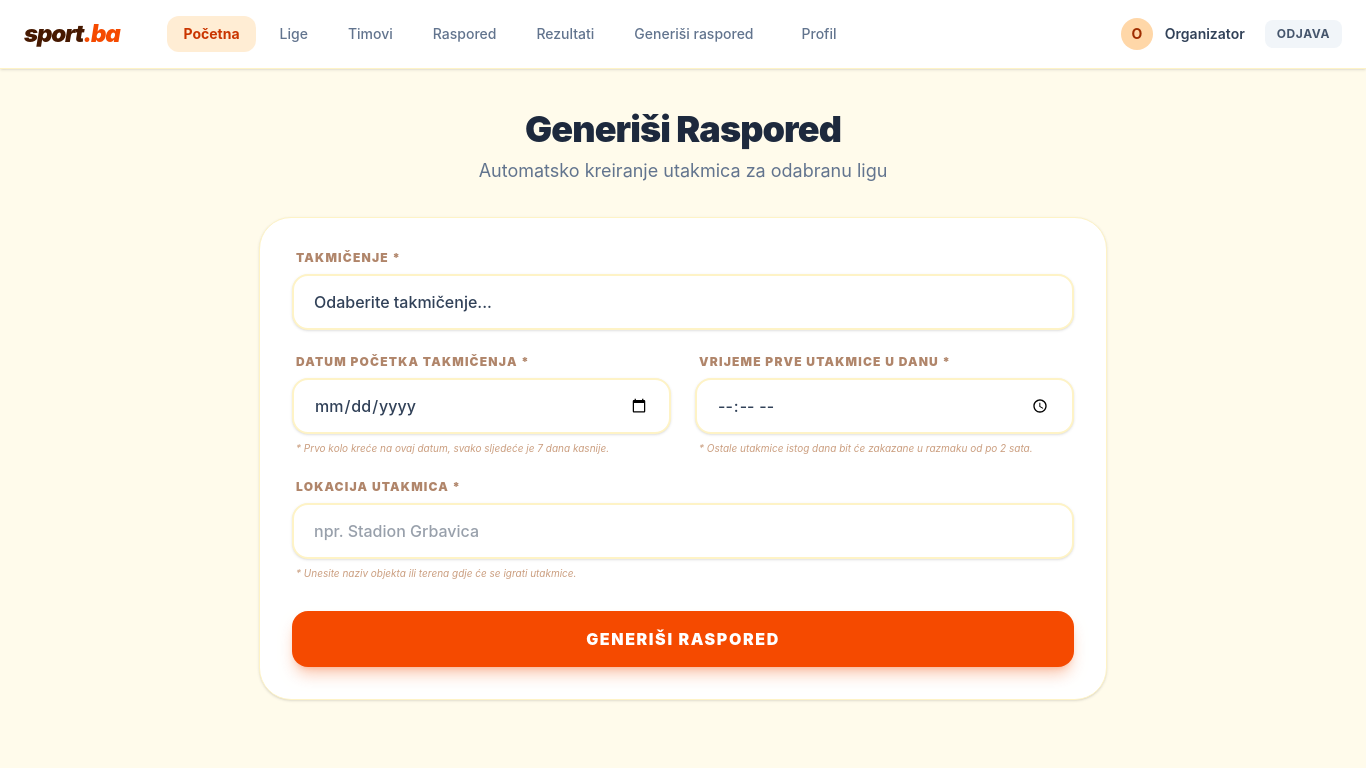
Scenario: GenerateSchedule › dugme je onemogućeno dok traje generisanje
Select "Premijer liga" in the dropdown labelled "Takmičenje *" at [683, 302], box left=292, top=274, right=1074, bottom=330
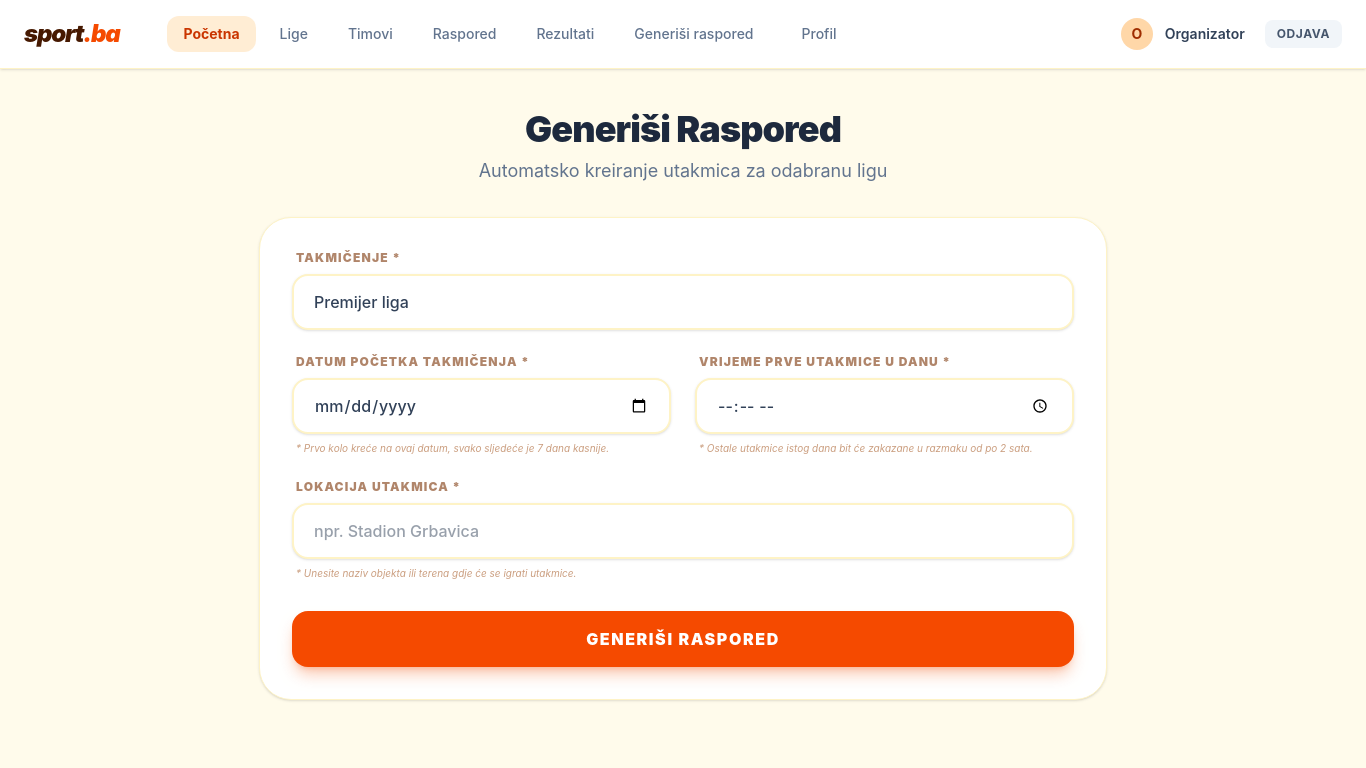
Type "2024-01-01" into the date field labelled "Datum početka takmičenja *" at [482, 406], box left=292, top=378, right=671, bottom=434
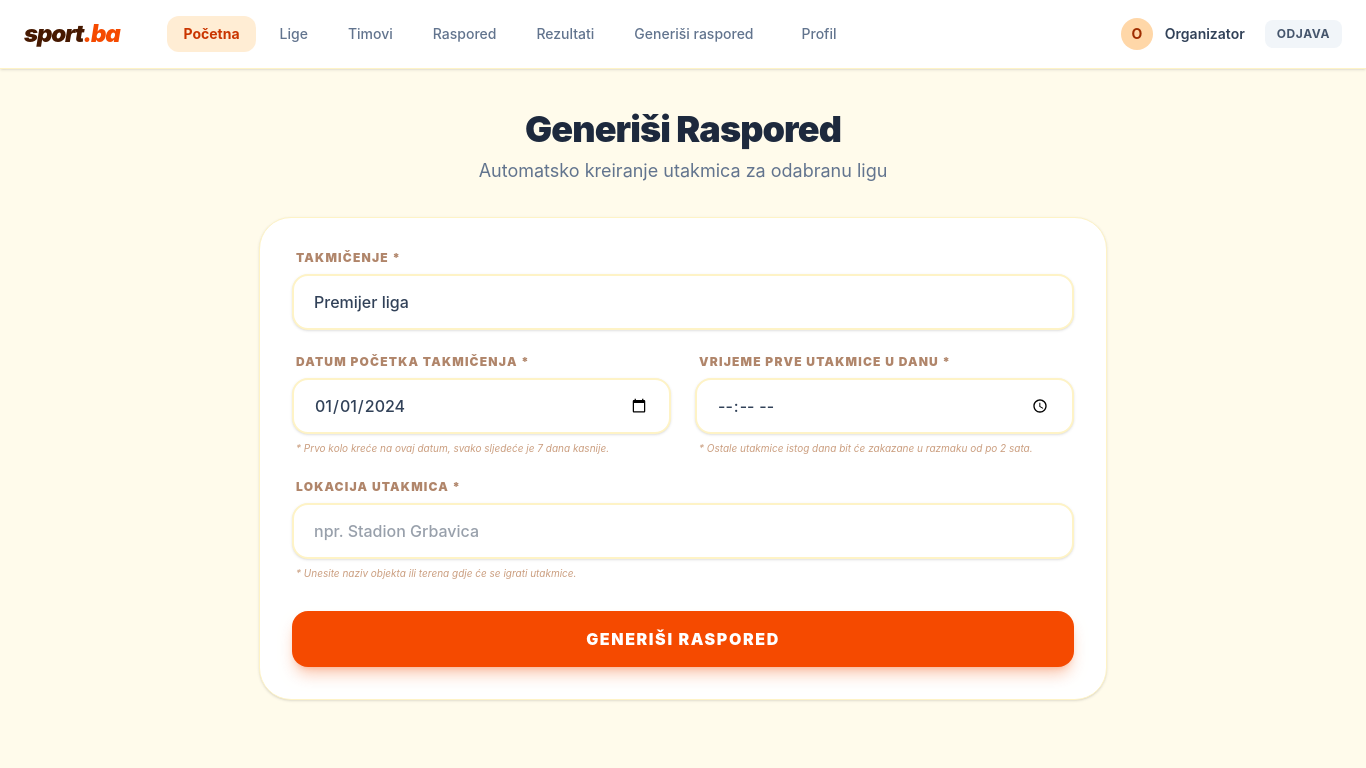
Type "15:00" into the time field labelled "Vrijeme prve utakmice u danu *" at [884, 406], box left=695, top=378, right=1074, bottom=434
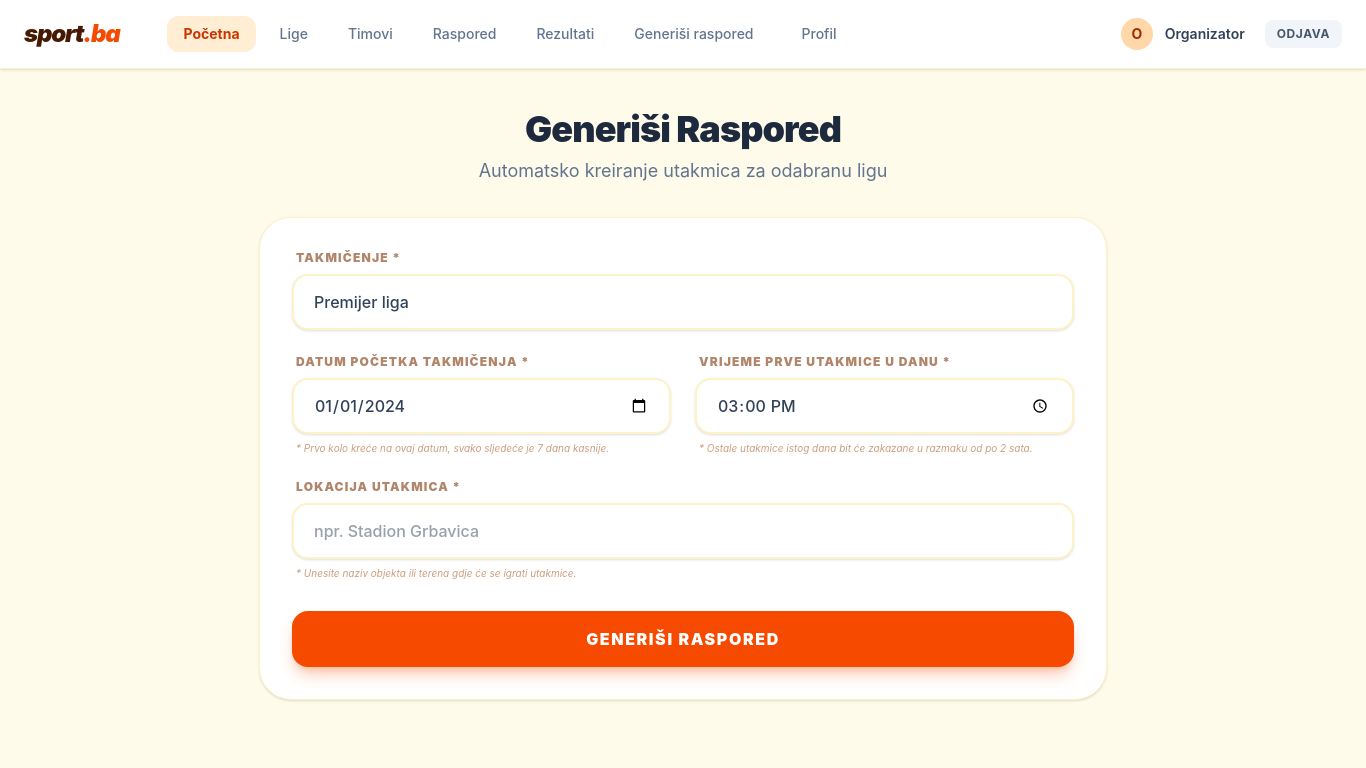
Type "Stadion Grbavica" into the field labelled "Lokacija utakmica *" at [683, 530], box left=292, top=502, right=1074, bottom=558
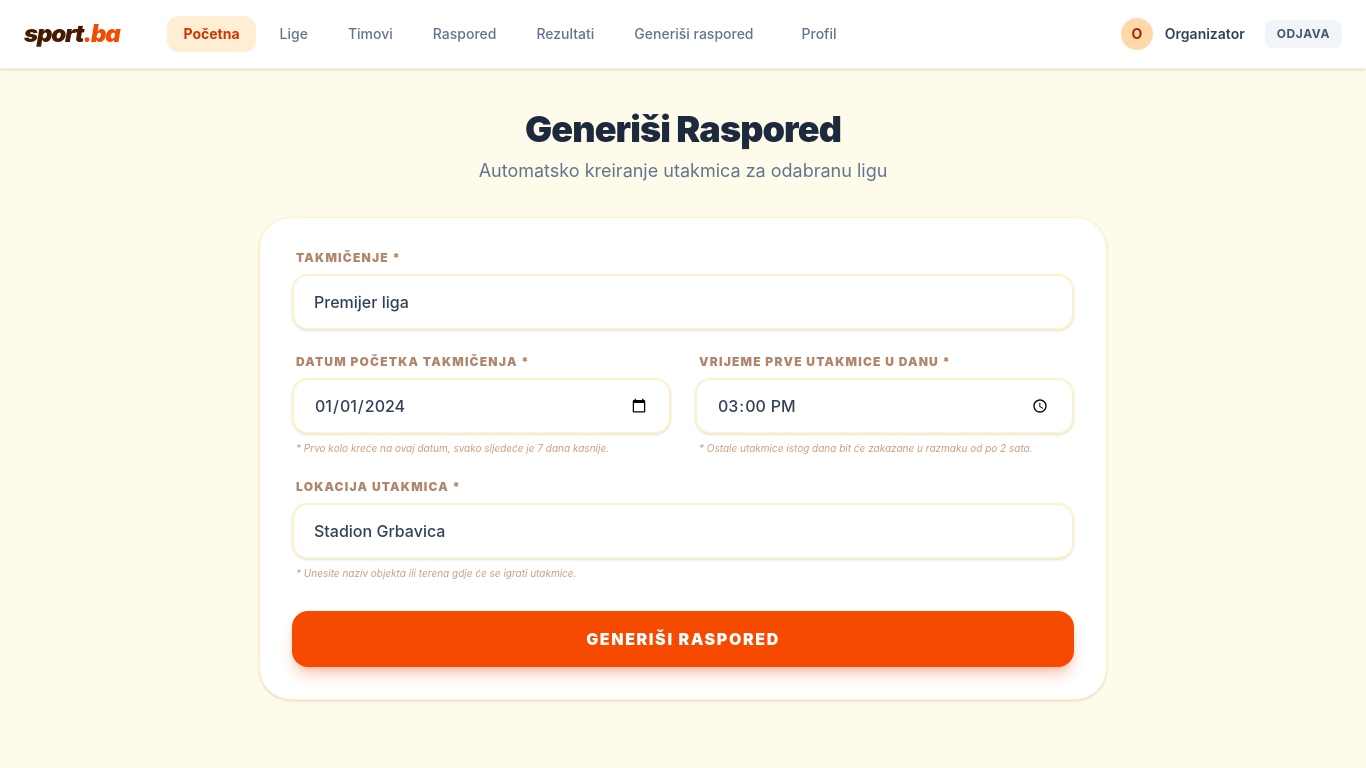
Click the button "Generiši raspored" at [683, 639], box left=292, top=611, right=1074, bottom=667
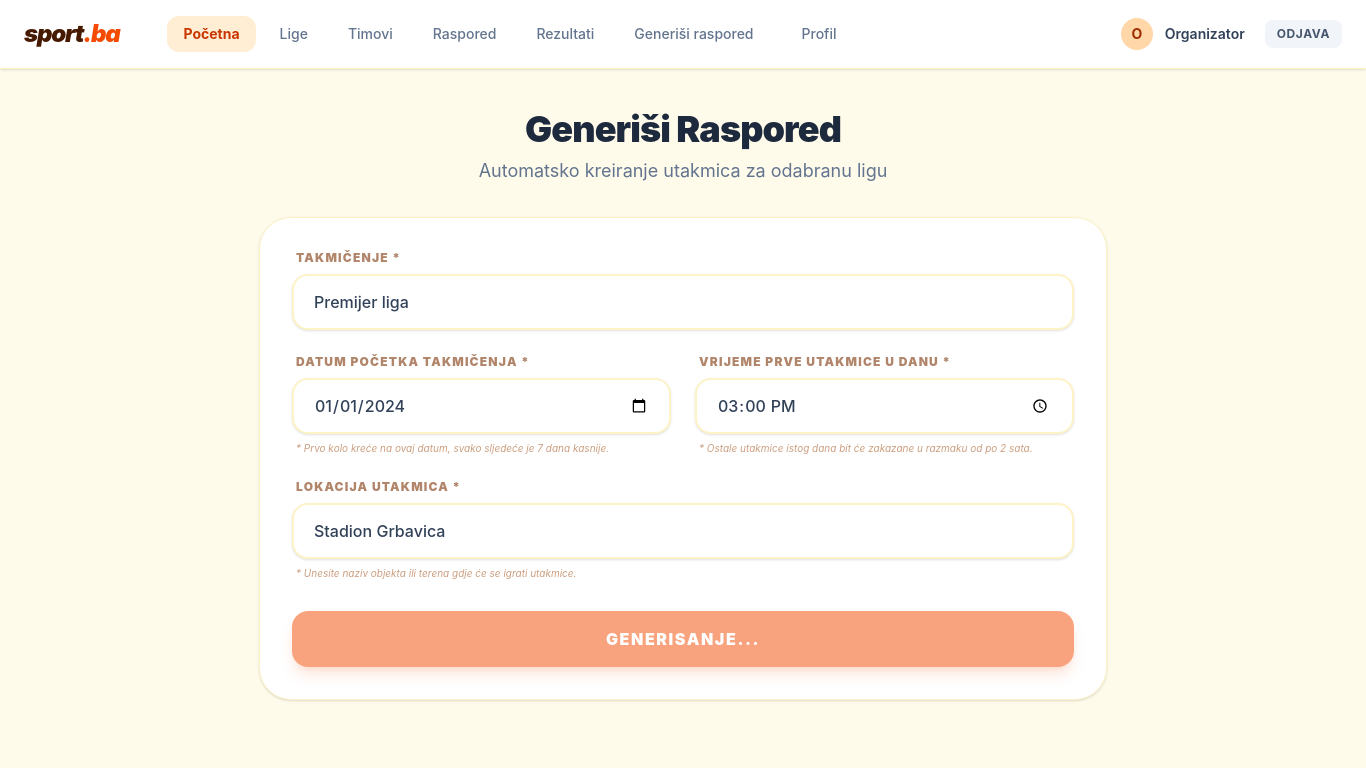
Result: the button "Generisanje..." is disabled at left=292, top=611, right=1074, bottom=667
